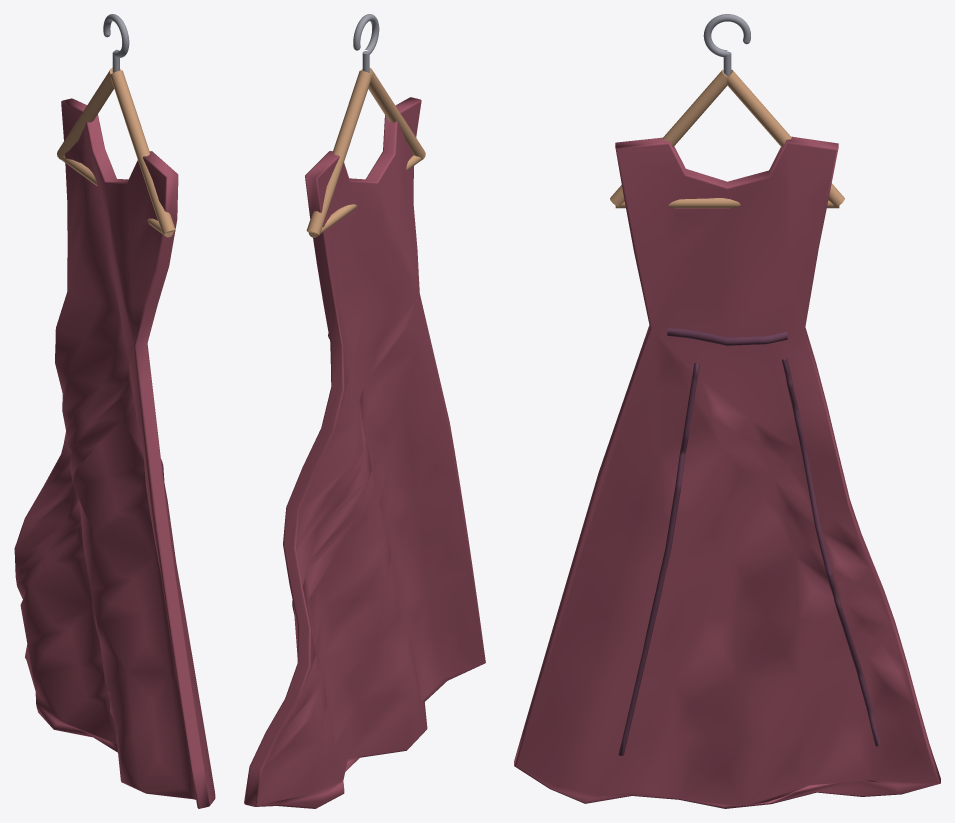
3 renders of one model, left to right at view 1: azimuth 30°, elevation 25°; view 2: azimuth 150°, elevation 25°; view 3: azimuth 270°, elevation 25°, orthographic. The views are drawn at different scales.
Parts seen in each view (by area): view 1: garment-cloth, garment-hanger, hanger-hook; view 2: garment-cloth, garment-hanger, hanger-hook; view 3: garment-cloth, garment-seams, garment-hanger, hanger-hook.
Boxes of the visible parts, left/top/right/bottom form: garment-cloth: left=14, top=98, right=215, bottom=808; garment-hanger: left=57, top=67, right=175, bottom=237; hanger-hook: left=103, top=14, right=129, bottom=72; garment-cloth: left=244, top=97, right=485, bottom=808; garment-hanger: left=306, top=68, right=425, bottom=237; hanger-hook: left=353, top=14, right=379, bottom=72; garment-cloth: left=514, top=136, right=940, bottom=808; garment-seams: left=618, top=327, right=880, bottom=755; garment-hanger: left=610, top=69, right=844, bottom=208; hanger-hook: left=703, top=14, right=750, bottom=75.
Size of the model in its own units: 0.0553 by 0.8089 by 0.3966.
